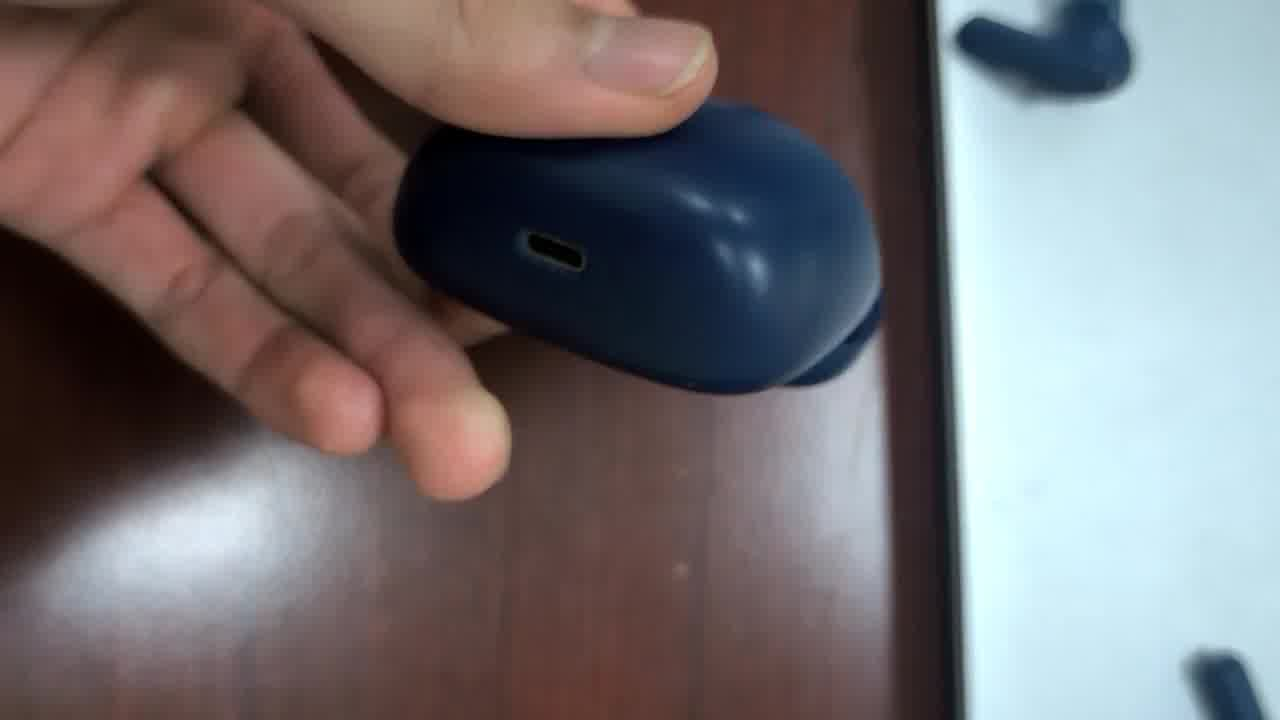Case: (381, 84, 908, 411)
Earbud: (957, 0, 1132, 94)
